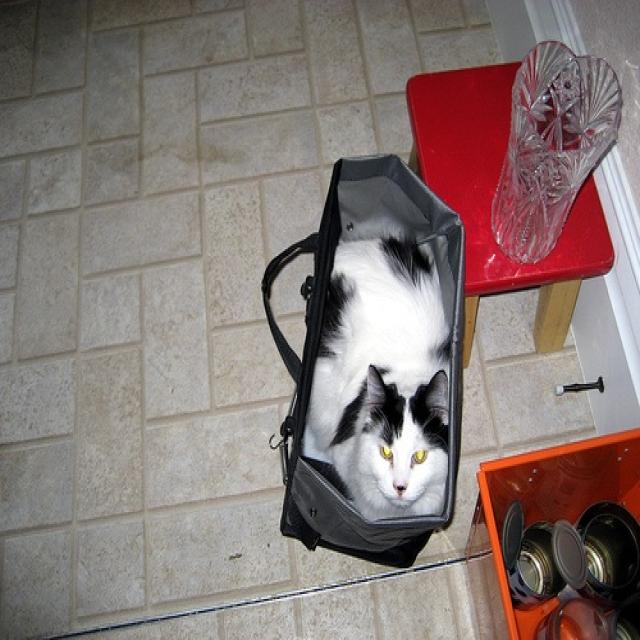cat: (298, 220, 460, 526)
